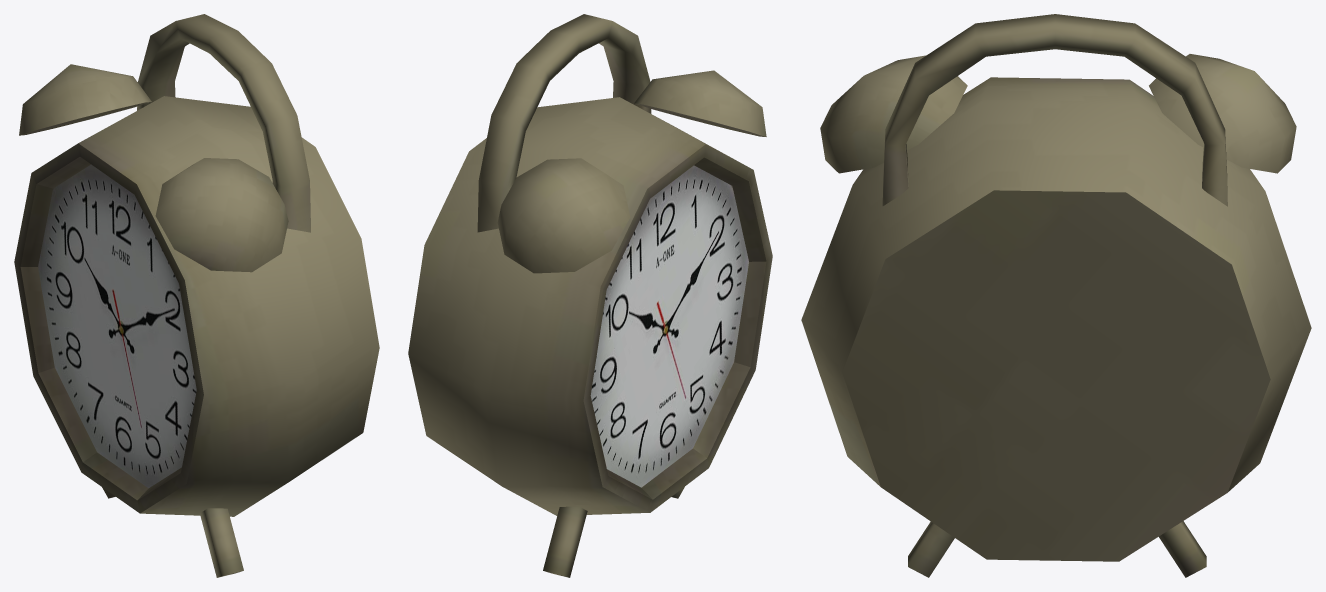
Rendered from Clock.FBX.
3 views of the same model, side by side, from view 1: azimuth 30°, elevation 25°; view 2: azimuth 150°, elevation 25°; view 3: azimuth 270°, elevation 25° (orthographic). The views are drawn at different scales.
Visible parts, largest first — view 1: Box177; view 2: Box177; view 3: Box177.
Part boxes in pixels (x1=…): Box177: x1=14, y1=14, x2=379, y2=577; Box177: x1=408, y1=14, x2=772, y2=577; Box177: x1=801, y1=14, x2=1311, y2=577.
Bounding box in the file's own units: 16.44 × 40.09 × 31.97.
2 materials, 2 textured.
